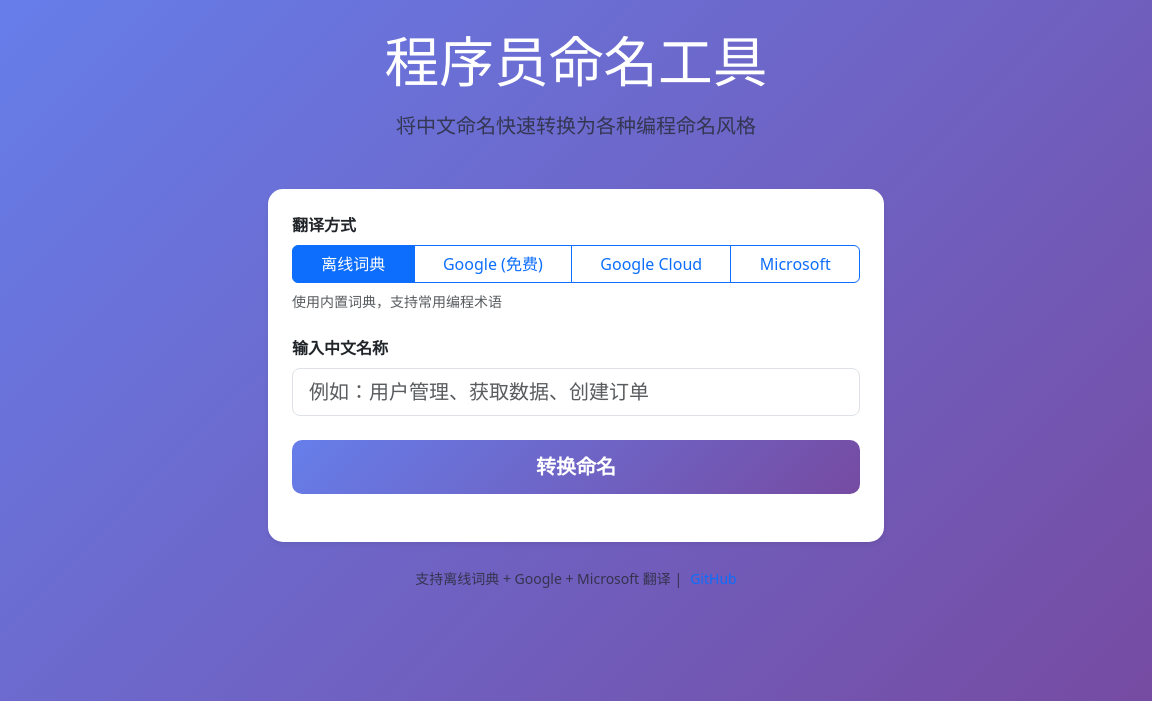
Test: App Component › shows results after translation
Type "用户管理" into the field with placeholder "例如：用户管理、获取数据、创建订单" at (576, 392), box [292,368,860,416]
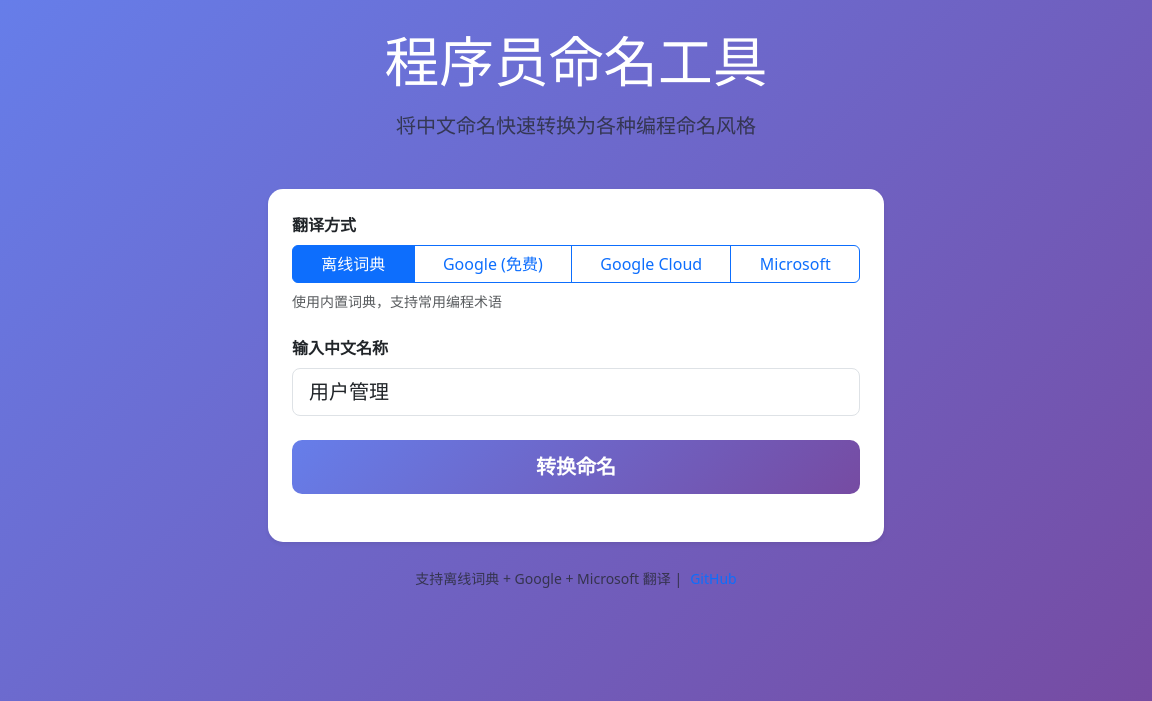
Click the button "转换命名" at (576, 467), box [292,440,860,494]
(page scrolled)
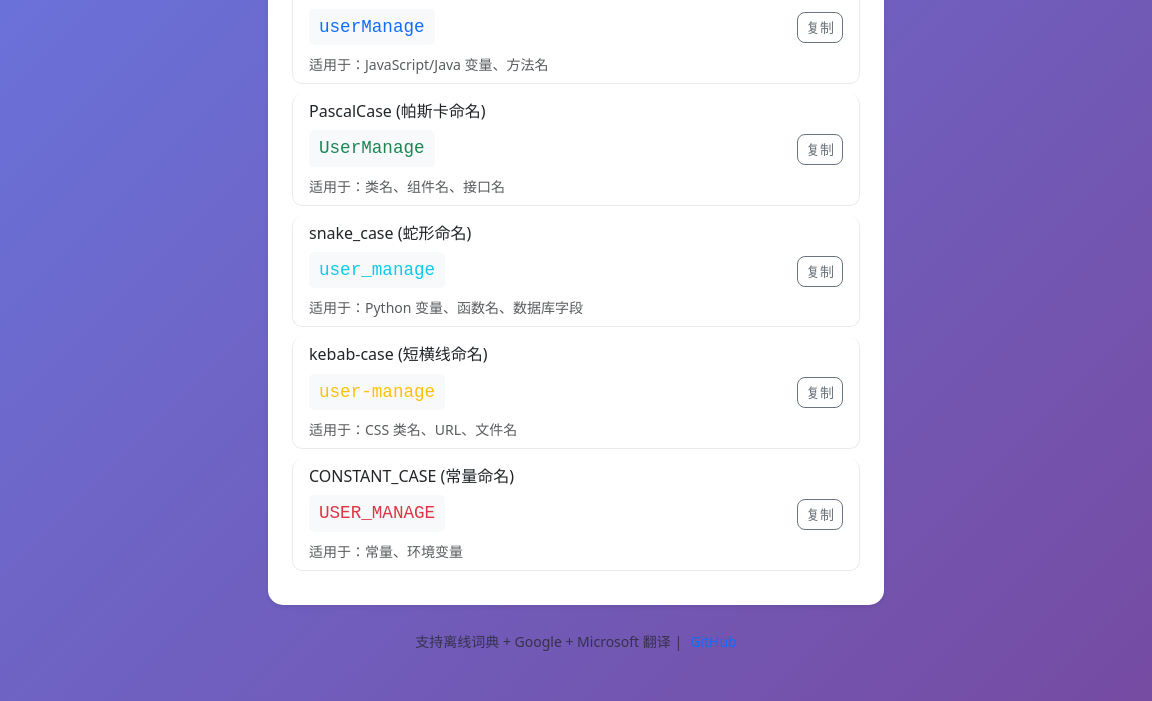
Result: the heading "PascalCase (帕斯卡命名)" is shown at [309,102,505,121]
Result: the heading "snake_case (蛇形命名)" is shown at [309,222,471,244]
Result: the heading "kebab-case (短横线命名)" is shown at [309,345,517,365]
